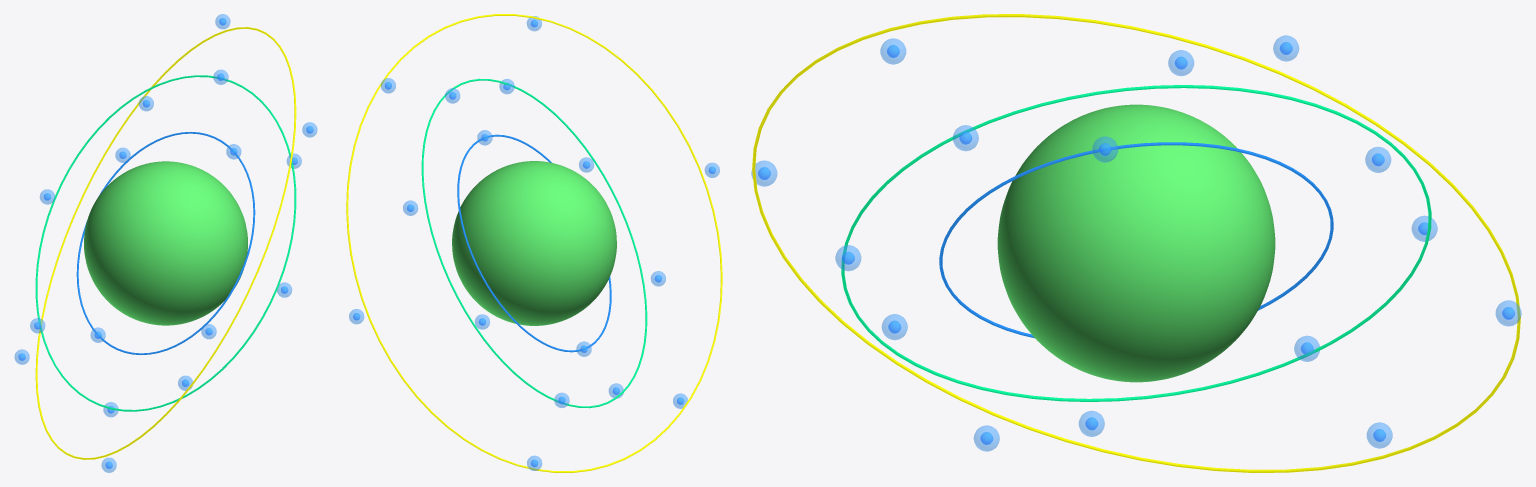
3 renders of one model, left to right at view 1: azimuth 30°, elevation 25°; view 2: azimuth 150°, elevation 25°; view 3: azimuth 270°, elevation 25°, orthographic. The views are drawn at different scales.
Visible parts, largest first — view 1: S, object 24, object 7, object 2; view 2: S, object 24, object 7, object 2; view 3: S, object 24, object 7, object 2.
Part boxes in pixels (x1=…): S: x1=84, y1=161, x2=247, y2=325; object 24: x1=35, y1=27, x2=296, y2=459; object 7: x1=35, y1=75, x2=296, y2=411; object 2: x1=76, y1=132, x2=255, y2=354; S: x1=452, y1=161, x2=616, y2=325; object 24: x1=346, y1=14, x2=722, y2=472; object 7: x1=421, y1=78, x2=647, y2=408; object 2: x1=457, y1=134, x2=611, y2=352; S: x1=997, y1=104, x2=1275, y2=382; object 24: x1=752, y1=14, x2=1520, y2=472; object 7: x1=841, y1=85, x2=1431, y2=401; object 2: x1=939, y1=142, x2=1333, y2=338.
Size of the model in its own units: 2.73 by 4.13 by 4.7.
